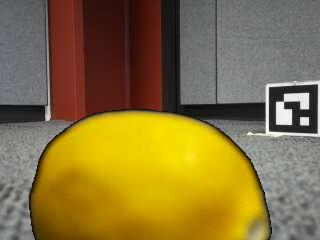lemon: (32, 111, 269, 240)
